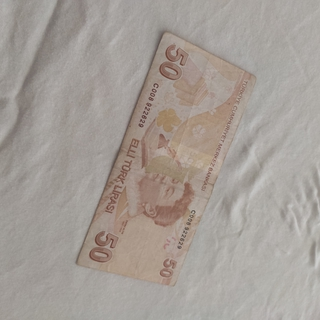50TLBack: (75, 30, 256, 286)
